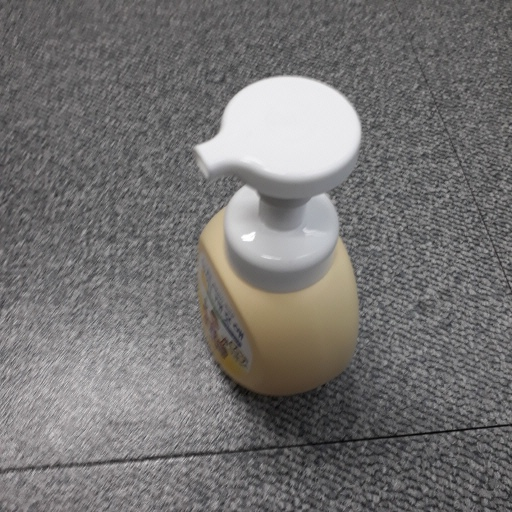Plastic_3: (183, 74, 376, 405)
